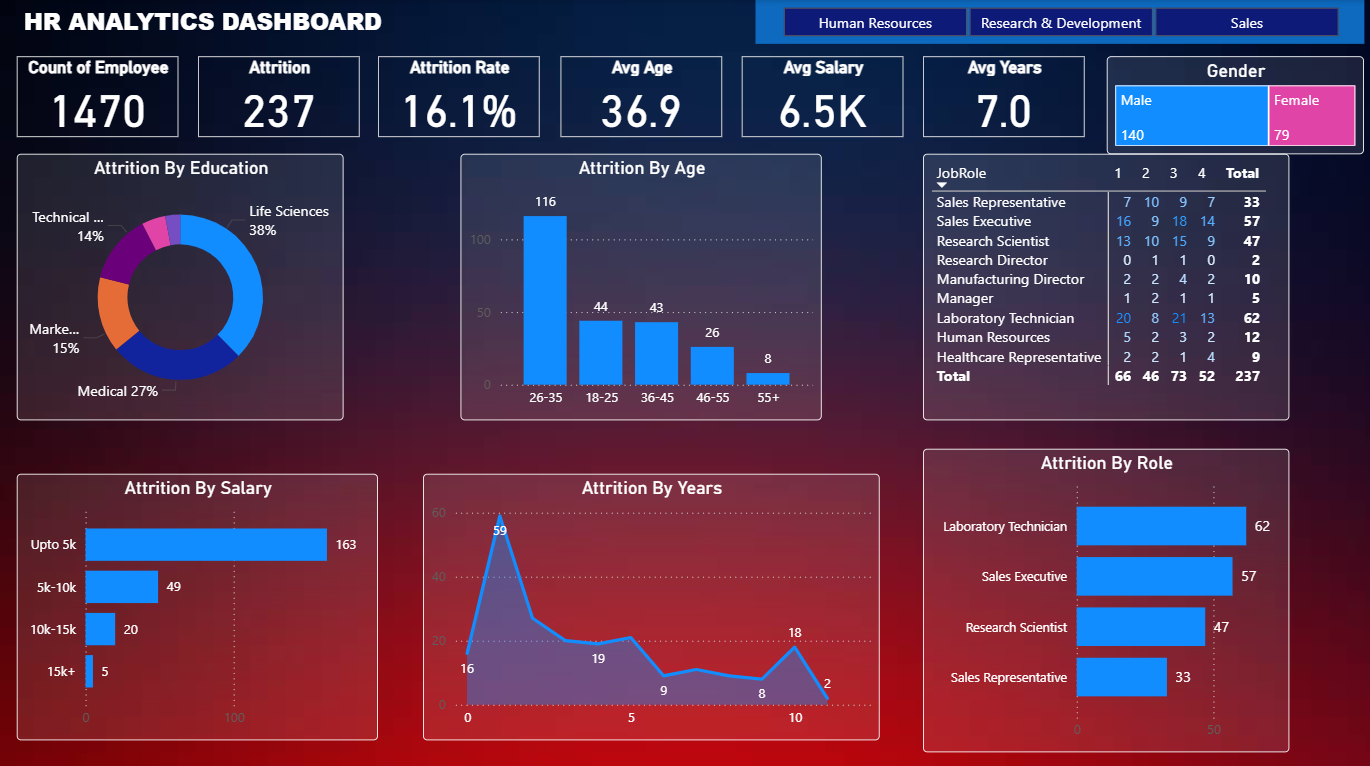

The dashboard page shown, as its layout file describes it:
{"tool":"powerbi","page":{"name":"Page 1","canvas":[1280,720],"ordinal":0},"visuals":[{"type":"card","title":"Attrition","fields":{"Values":["Sum(HR_Analytics.AttritionCount)"]},"box":[185.5,52.2,150.7,75.4],"z":0},{"type":"card","title":"Attrition Rate","fields":{"Values":["HR_Analytics.AttritionRate"]},"box":[353.6,52.2,150.7,75.4],"z":1000},{"type":"card","title":"Avg Age","fields":{"Values":["Avg(HR_Analytics.Age)"]},"box":[523.2,52.2,150.7,75.4],"z":2000},{"type":"card","title":"Count of Employee","fields":{"Values":["CountNonNull(HR_Analytics.EmpID)"]},"box":[17.4,52.2,150.7,75.4],"z":3000},{"type":"card","title":"Avg Salary","fields":{"Values":["Avg(HR_Analytics.MonthlyIncome)"]},"box":[691.3,52.2,150.7,75.4],"z":4000},{"type":"card","title":"Avg Years","fields":{"Values":["Avg(HR_Analytics.YearsAtCompany)"]},"box":[860.9,52.2,150.7,75.4],"z":5000},{"type":"donutChart","title":"Attrition By Education","fields":{"Category":["HR_Analytics.EducationField"],"Y":["Sum(HR_Analytics.AttritionCount)"]},"box":[17.4,143.5,304.3,247.8],"z":6000},{"type":"columnChart","title":"Attrition By Age","fields":{"Category":["HR_Analytics.AgeGroup"],"Y":["Sum(HR_Analytics.AttritionCount)"]},"box":[430.4,143.5,336.2,247.8],"z":7000},{"type":"pivotTable","fields":{"Rows":["HR_Analytics.JobRole"],"Columns":["HR_Analytics.JobSatisfaction"],"Values":["Sum(HR_Analytics.AttritionCount)"]},"box":[860.9,143.5,340.6,247.8],"z":8000},{"type":"barChart","title":"Attrition By Salary","fields":{"Category":["HR_Analytics.SalarySlab"],"Y":["Sum(HR_Analytics.AttritionCount)"]},"box":[17.4,440.6,336.2,247.8],"z":9000},{"type":"barChart","title":"Attrition By Role","fields":{"Y":["Sum(HR_Analytics.AttritionCount)"],"Category":["HR_Analytics.JobRole"]},"box":[860.9,417.4,340.6,282.6],"z":10000},{"type":"areaChart","title":"Attrition By Years","fields":{"Category":["HR_Analytics.YearsAtCompany"],"Y":["Sum(HR_Analytics.AttritionCount)"]},"box":[395.7,440.6,424.6,247.8],"z":11000},{"type":"treemap","title":"Gender","fields":{"Group":["HR_Analytics.Gender"],"Values":["Sum(HR_Analytics.AttritionCount)"]},"box":[1031.9,52.2,239.1,91.3],"z":12000},{"type":"slicer","fields":{"Values":["HR_Analytics.Department"]},"box":[704.3,0,566.7,40.6],"z":13000},{"type":"textbox","box":[0,0,381.2,40.6],"z":14000}]}

Visuals, with their boxes in screenshot pixels (x1, y1, x2, y2), scaled from the page's 1280x720 canvas onto the 1370x766 screenshot:
"Attrition" card: {"left": 199, "top": 56, "right": 360, "bottom": 136}
"Attrition Rate" card: {"left": 378, "top": 56, "right": 540, "bottom": 136}
"Avg Age" card: {"left": 560, "top": 56, "right": 721, "bottom": 136}
"Count of Employee" card: {"left": 19, "top": 56, "right": 180, "bottom": 136}
"Avg Salary" card: {"left": 740, "top": 56, "right": 901, "bottom": 136}
"Avg Years" card: {"left": 921, "top": 56, "right": 1083, "bottom": 136}
"Attrition By Education" donutChart: {"left": 19, "top": 153, "right": 344, "bottom": 416}
"Attrition By Age" columnChart: {"left": 461, "top": 153, "right": 821, "bottom": 416}
pivotTable - HR_Analytics.JobRole x HR_Analytics.JobSatisfaction: {"left": 921, "top": 153, "right": 1286, "bottom": 416}
"Attrition By Salary" barChart: {"left": 19, "top": 469, "right": 378, "bottom": 732}
"Attrition By Role" barChart: {"left": 921, "top": 444, "right": 1286, "bottom": 745}
"Attrition By Years" areaChart: {"left": 424, "top": 469, "right": 878, "bottom": 732}
"Gender" treemap: {"left": 1104, "top": 56, "right": 1360, "bottom": 153}
slicer - HR_Analytics.Department: {"left": 754, "top": 0, "right": 1360, "bottom": 43}
textbox: {"left": 0, "top": 0, "right": 408, "bottom": 43}
